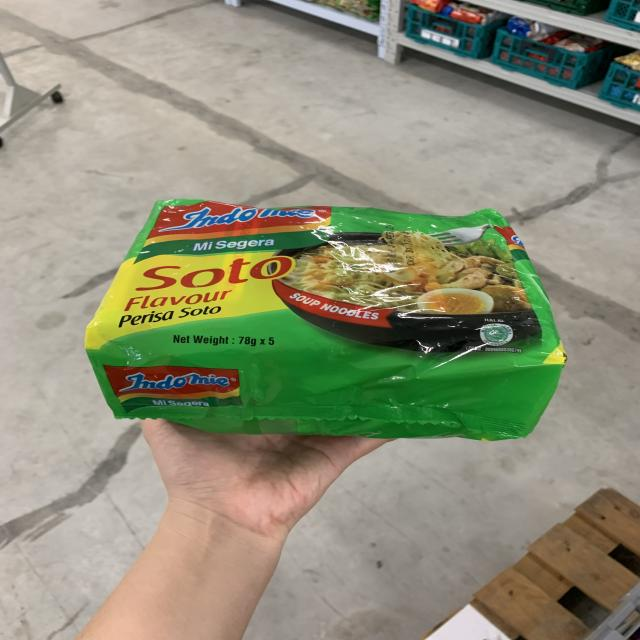object_name: (115, 197, 551, 428)
